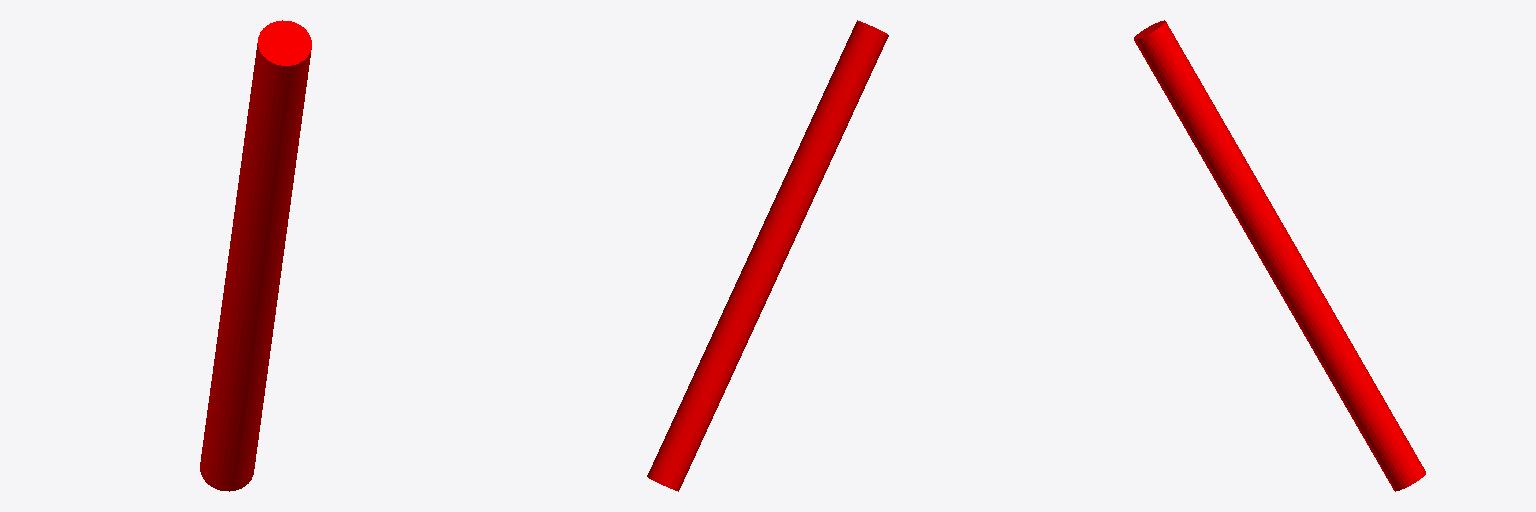
The robot description file, URDF, robot "tree_58.urdf":
<?xml version='1.0' encoding='utf-8'?>
<robot name="tree_58.urdf">
  <link name="branch_0">
    <inertial>
      <origin xyz="0.0 0.0 0.0" rpy="0.0 -0.0 0.0" />
      <mass value="1.0" />
      <inertia ixx="1.0" ixy="0.0" ixz="0.0" iyy="1.0" iyz="0.0" izz="1.0" />
    </inertial>
    <visual name="branch_0_visual">
      <geometry>
        <cylinder radius="0.07363852888118191" length="2.1032380297570312" />
      </geometry>
      <material name="semantic_material" />
      <origin xyz="-0.2083682752870655 -0.5173346242363002 0.8915436617879348" rpy="-2.7755575615628914e-17 0.5590073214935716 -1.9536906945956949" />
    </visual>
    <collision name="branch_0_collision">
      <geometry>
        <cylinder radius="0.07363852888118191" length="2.1032380297570312" />
      </geometry>
      <origin xyz="-0.2083682752870655 -0.5173346242363002 0.8915436617879348" rpy="-2.7755575615628914e-17 0.5590073214935716 -1.9536906945956949" />
    </collision>
  </link>
  <material name="semantic_material">
    <color rgba="1. 0. 0. 1." />
  </material>
</robot>

--- Render facts (derived) ---
The picture shows the robot from 3 angles, left to right: view 1: azimuth 30°, elevation 25°; view 2: azimuth 150°, elevation 25°; view 3: azimuth 270°, elevation 25°; orthographic projection.
Robot: tree_58.urdf — 1 links, 0 joints (none); root link branch_0; default pose: all joints at 0.
Links seen in each view (by area): view 1: branch_0; view 2: branch_0; view 3: branch_0.
Boxes of the visible links, box(x1,y1,x2,y2) form: branch_0: box(200, 20, 311, 491); branch_0: box(647, 20, 888, 491); branch_0: box(1134, 20, 1425, 491).
Bounding box of the posed robot: 0.5608 × 1.16 × 1.86 m (x, y, z).
Geometry: primitives only (box / cylinder / sphere), no mesh files.